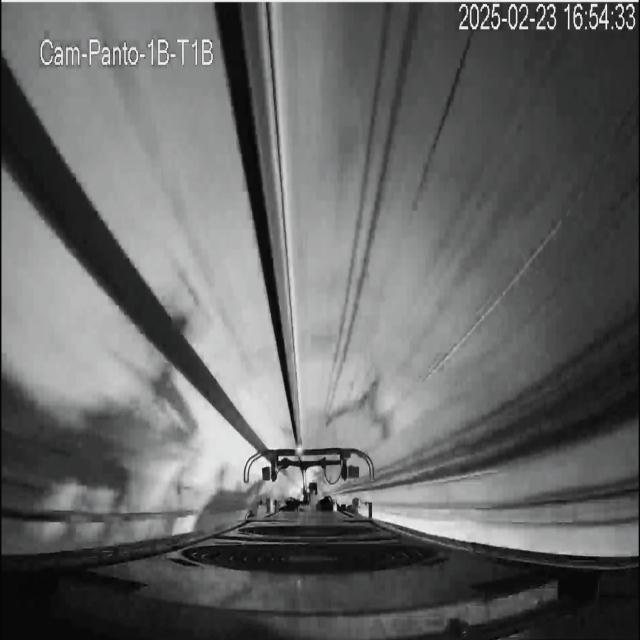Camera Stamp: (35, 28, 221, 71)
Date Stamp: (458, 3, 633, 33)
Sparks: (293, 440, 305, 457)
